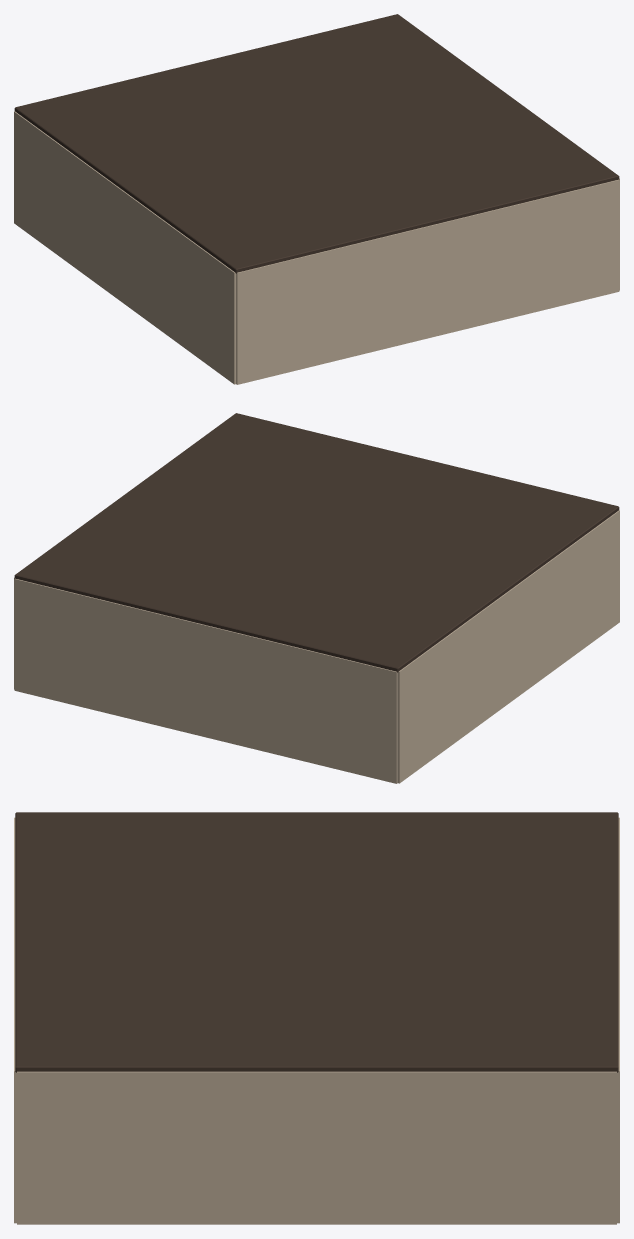
File: owned-listening-workshop.glb
3 renders of one model, top to bottom at view 1: azimuth 30°, elevation 25°; view 2: azimuth 150°, elevation 25°; view 3: azimuth 270°, elevation 25°, orthographic. The views are drawn at different scales.
Visible parts, largest first — view 1: Soot oak, Bone plaster; view 2: Soot oak, Bone plaster; view 3: Soot oak, Bone plaster.
Part boxes in pixels (<box>): Soot oak: <box>14,14,619,273</box>; Bone plaster: <box>14,111,619,384</box>; Soot oak: <box>14,413,619,672</box>; Bone plaster: <box>14,510,619,783</box>; Soot oak: <box>15,812,618,1072</box>; Bone plaster: <box>14,817,619,1224</box>.
Bounding box in the file's own units: 12.2 × 3.49 × 12.2.
